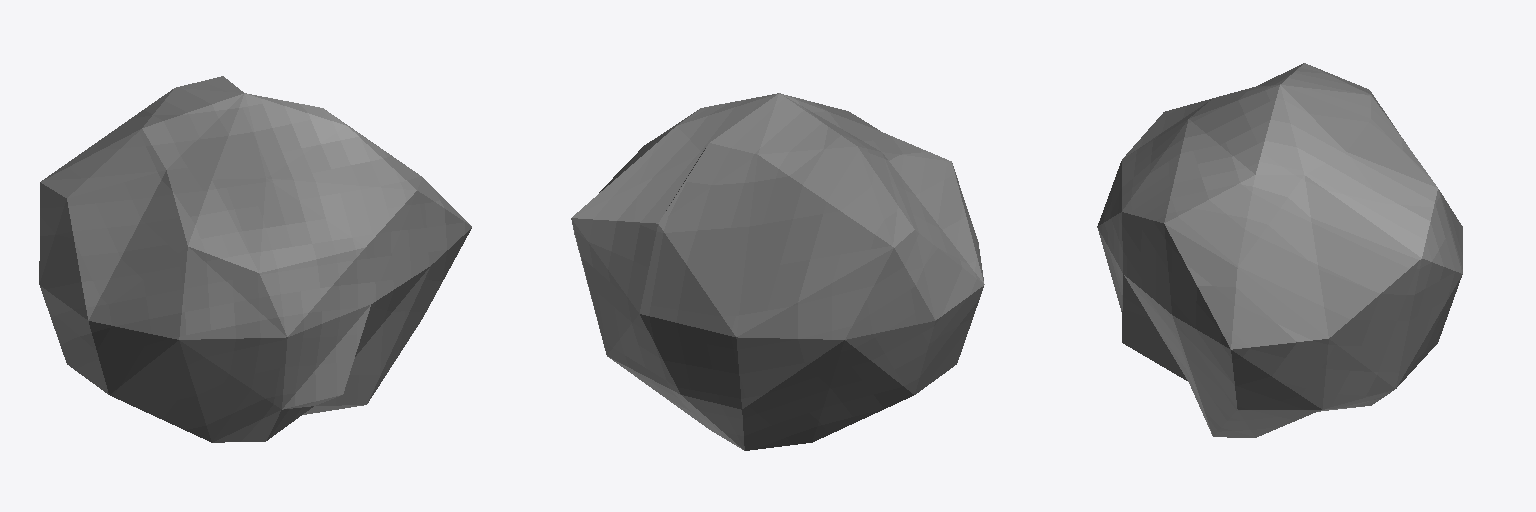
3 views of the same model, side by side, from view 1: azimuth 30°, elevation 25°; view 2: azimuth 150°, elevation 25°; view 3: azimuth 270°, elevation 25° (orthographic).
Visible parts, largest first — view 1: sphere; view 2: sphere; view 3: sphere.
Part boxes in pixels (x1,y1,x2,y2): sphere: (39, 76, 471, 442); sphere: (571, 93, 984, 450); sphere: (1097, 63, 1462, 437).
Bounding box in the file's own units: 1.06 × 0.875 × 0.875.
1 materials, 1 textured.